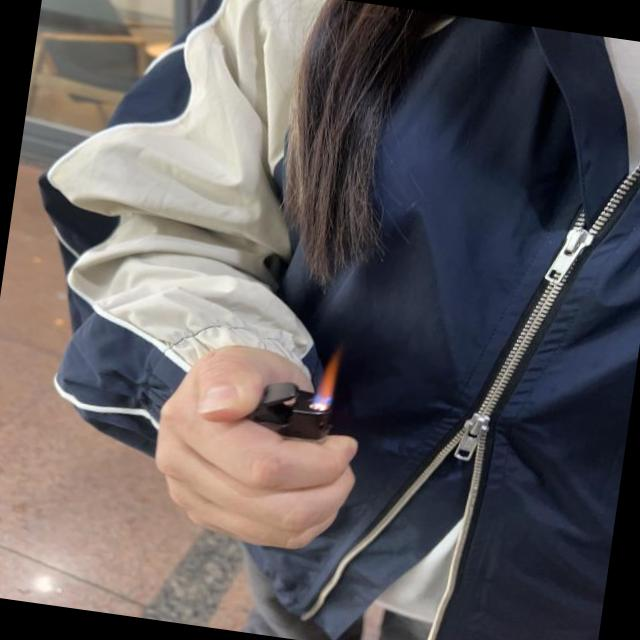Fire: (314, 342, 342, 412)
